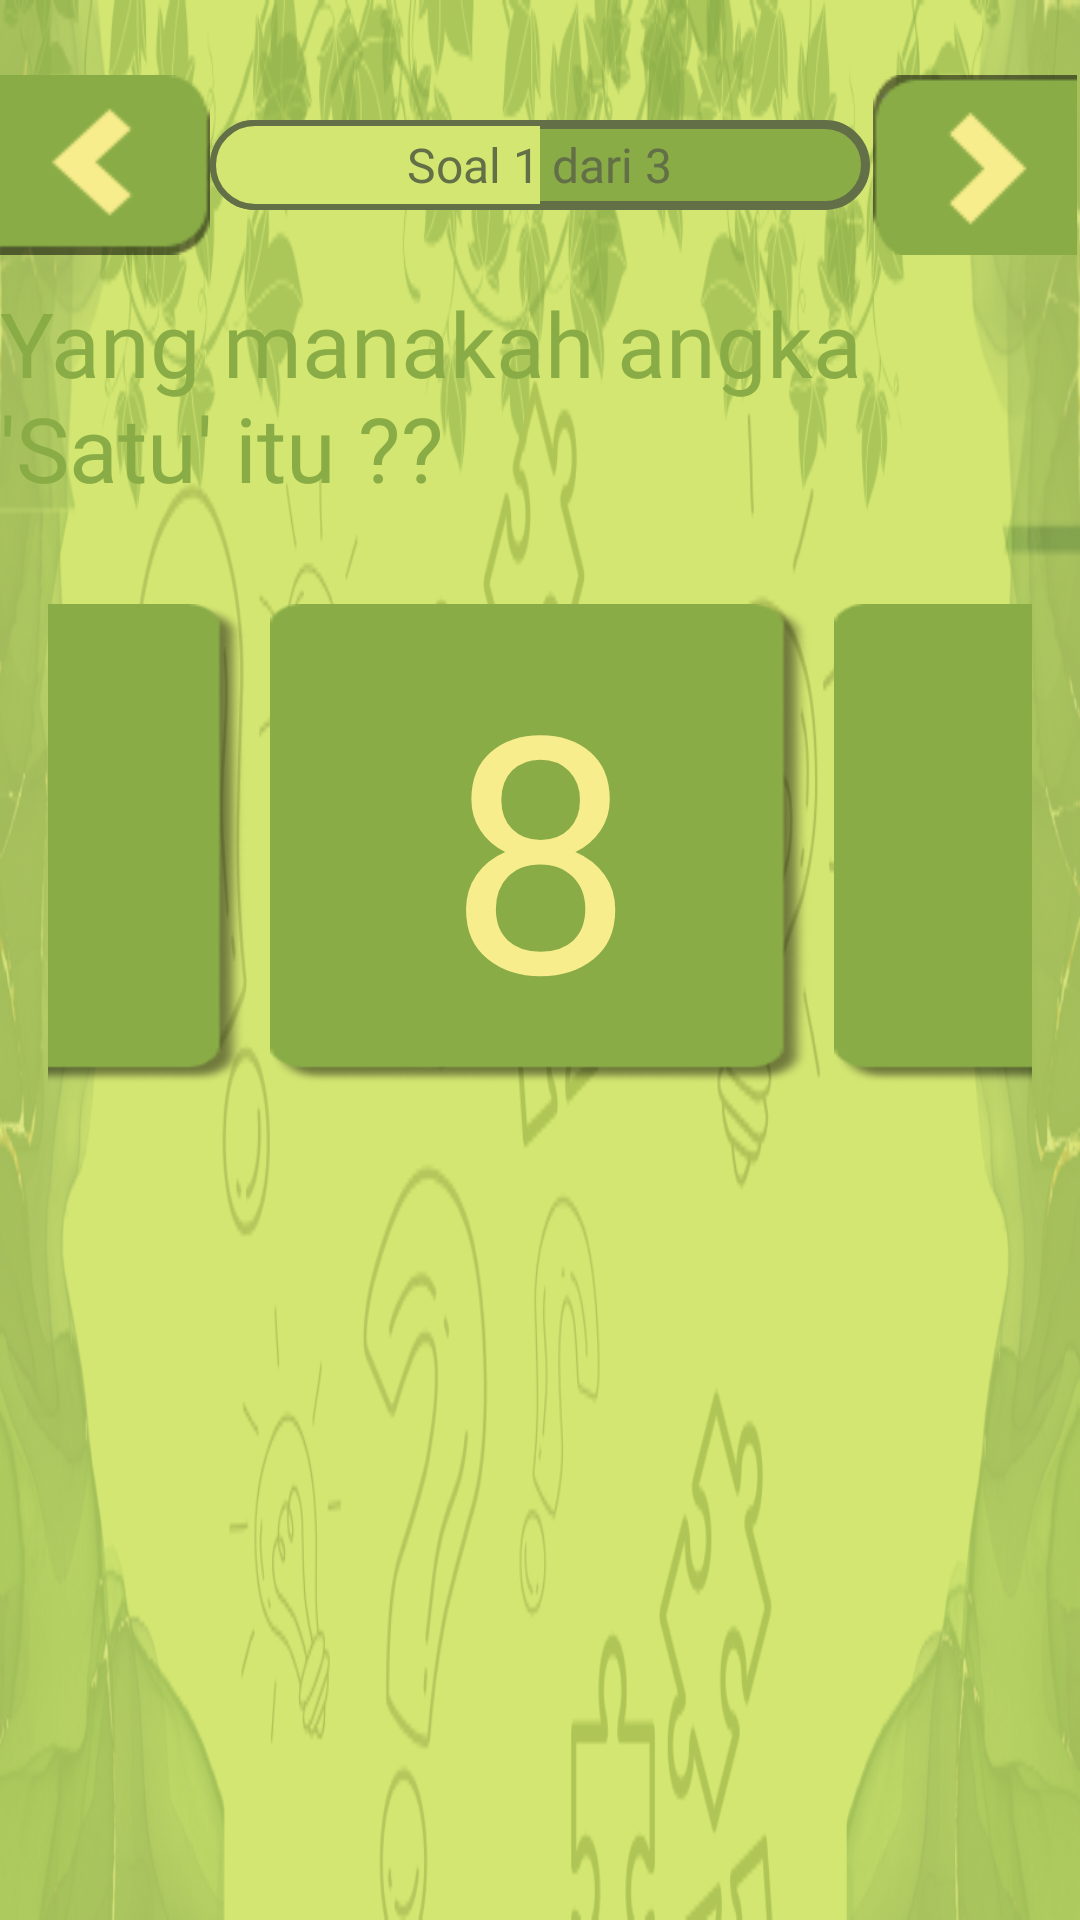

Icons on this 1080*1920 Android screen, each with the point to tap as point (x, y):
Next: point (975, 165)
